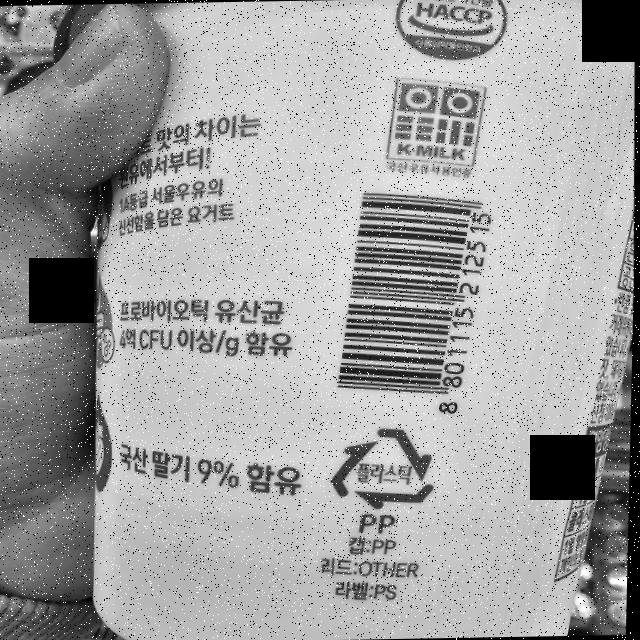Plastic: (328, 424, 438, 512)
